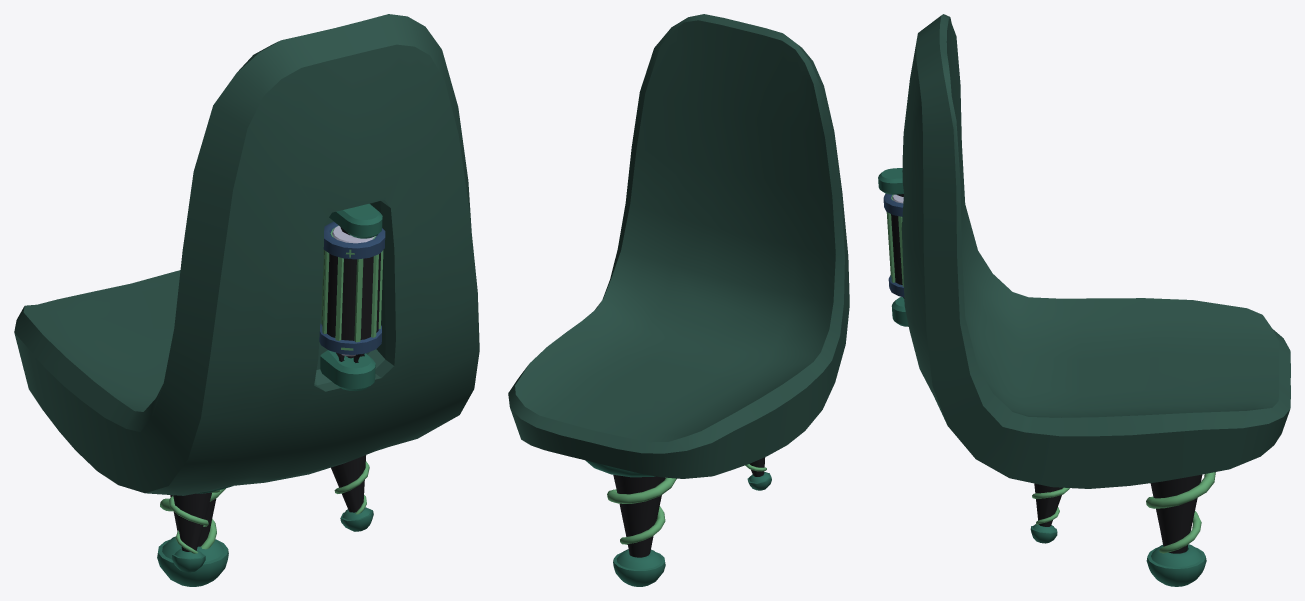
The model's file is Furn_ChairFloating_Green_B.glb.
3 views of the same model, side by side, from view 1: azimuth 30°, elevation 25°; view 2: azimuth 150°, elevation 25°; view 3: azimuth 270°, elevation 25° (orthographic). The views are drawn at different scales.
Parts seen in each view (by area): view 1: Furn_ChairFloating_Green_B.001; view 2: Furn_ChairFloating_Green_B.001; view 3: Furn_ChairFloating_Green_B.001.
Part boxes in pixels (x1,y1,x2,y2): Furn_ChairFloating_Green_B.001: (14,14,479,586); Furn_ChairFloating_Green_B.001: (508,14,849,586); Furn_ChairFloating_Green_B.001: (878,14,1290,586).
Size of the model in its own units: 0.3562 by 0.7057 by 0.4855.
